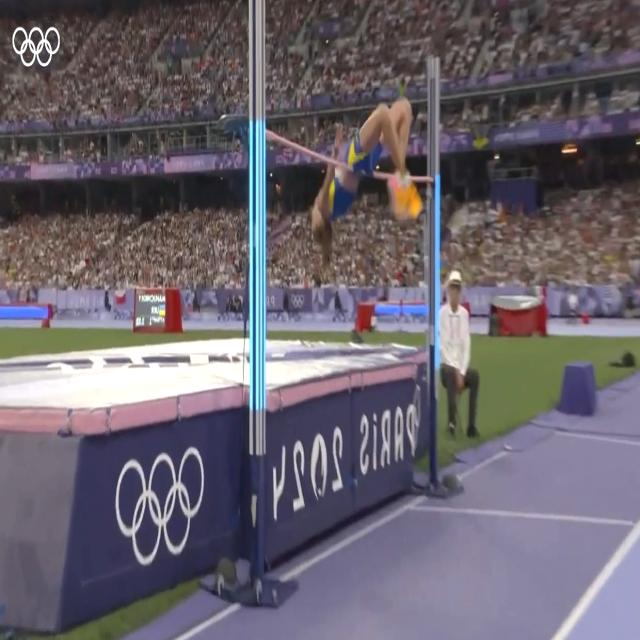jump: (310, 96, 423, 272)
